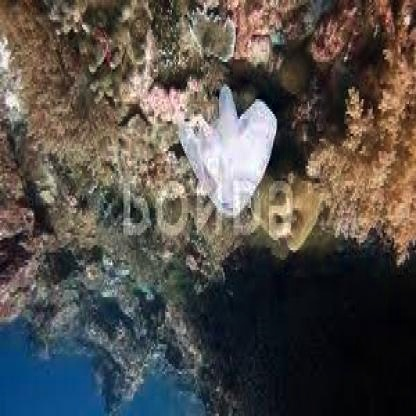pbag: (176, 84, 279, 220)
